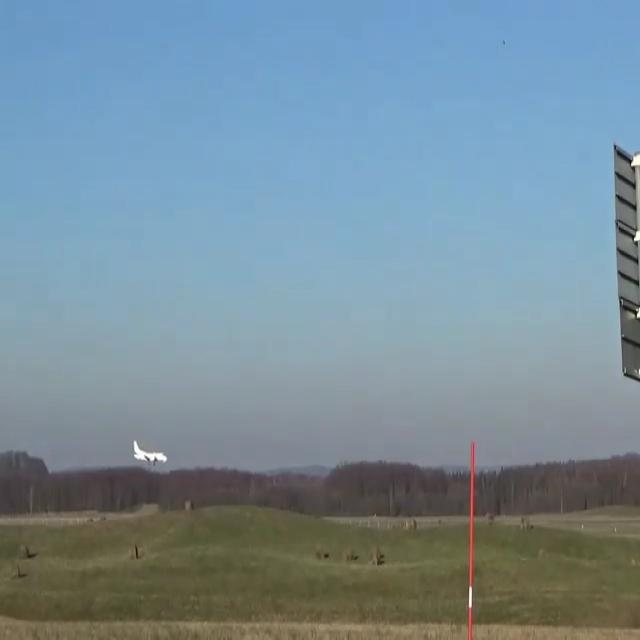AirPlane: (125, 434, 175, 474)
